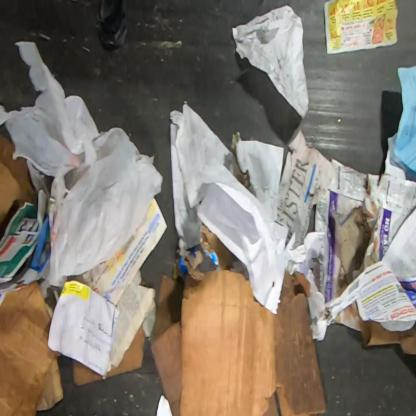cardboard: (149, 223, 327, 416), (0, 279, 65, 415), (0, 133, 37, 226), (359, 317, 416, 356), (106, 325, 146, 379), (72, 358, 102, 387)
rigid_plastic: (95, 0, 128, 53)
soft_plastic: (0, 41, 164, 290)
